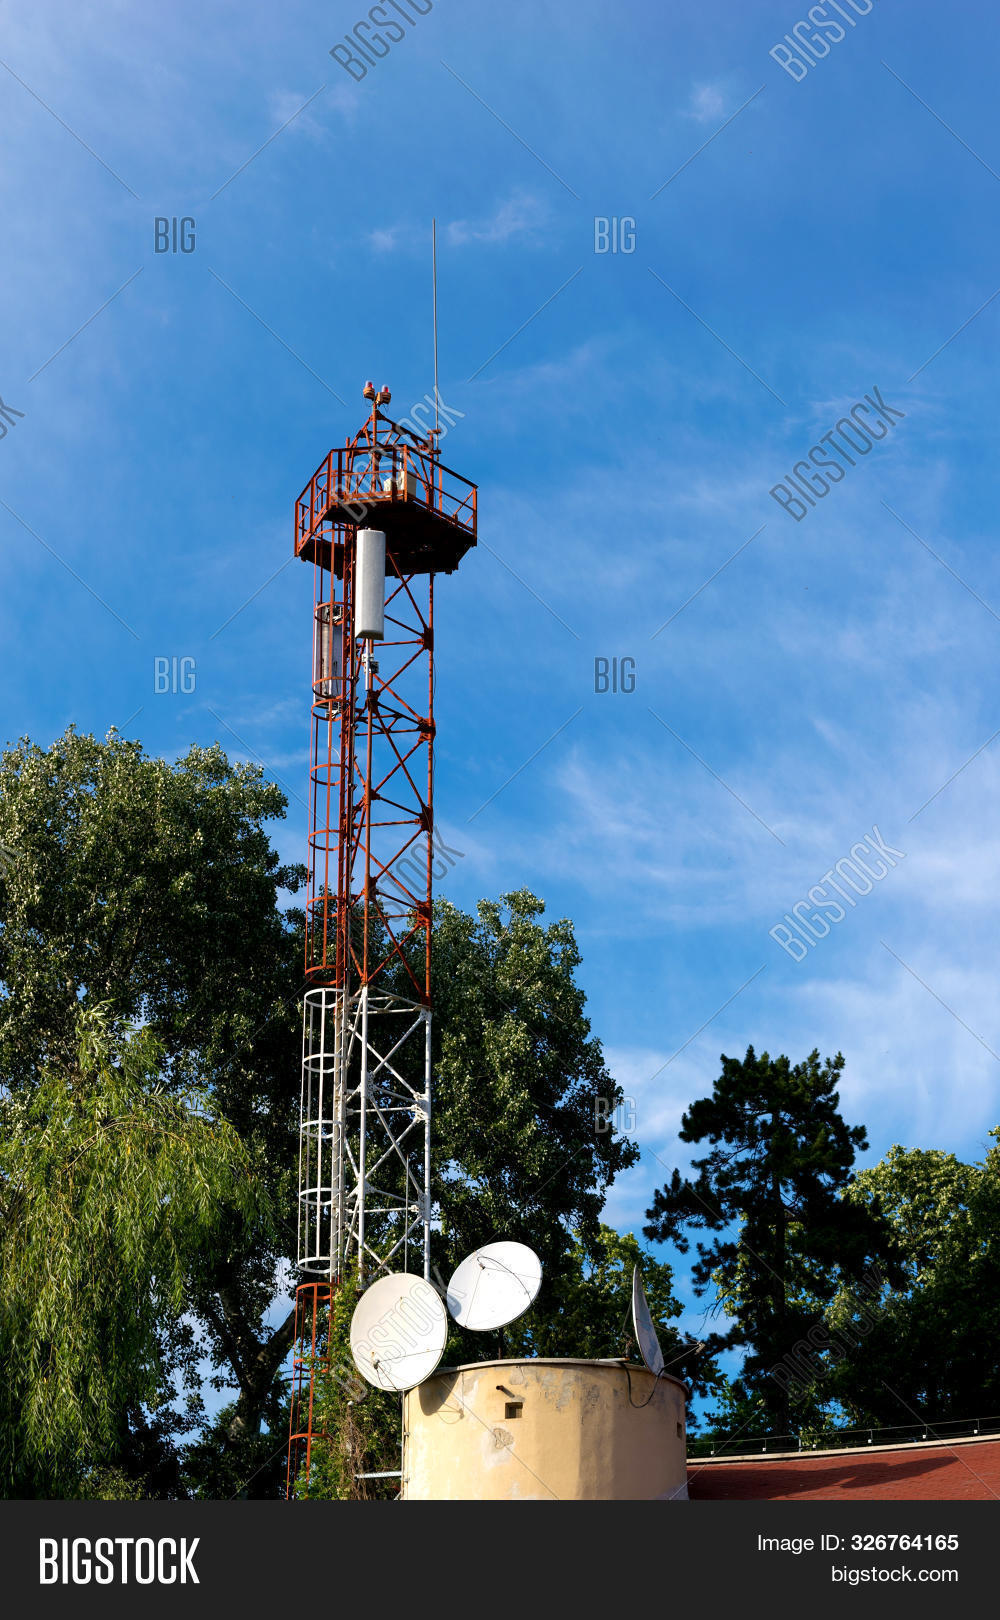a: (356, 528, 382, 633)
